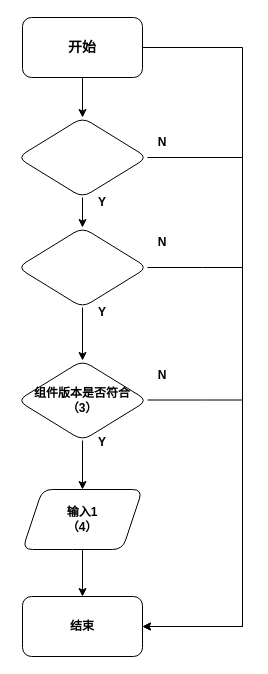
Some shapes in this 268 by 674 pixel diagram are drawn without their labels. The centre of each missing label's shape, as x and y in pixels:
"系统是否满足 （1）" belongs at point (82, 157).
"组件类型是否符合 （2）" belongs at point (82, 267).
